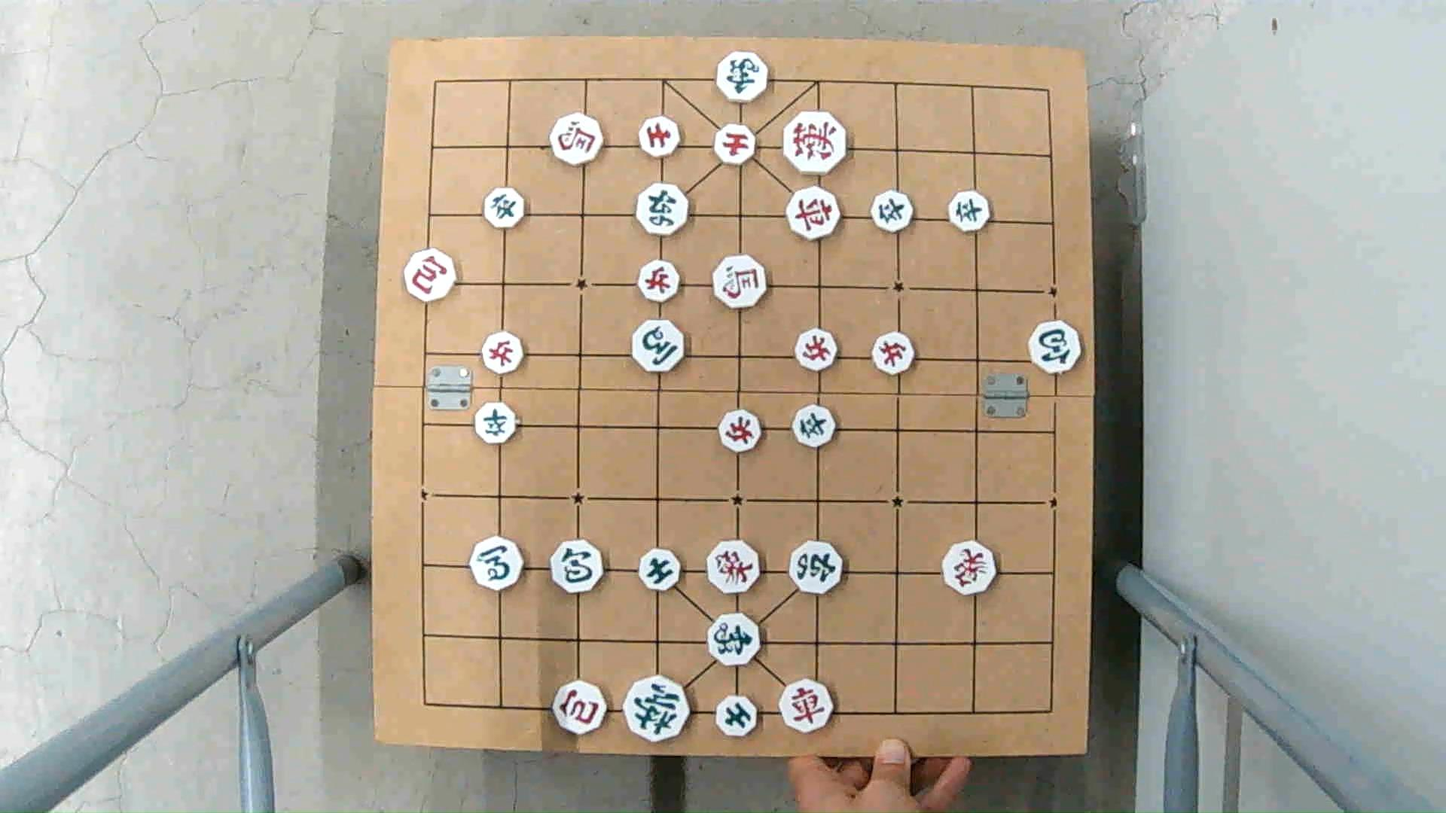cha_green: (789, 544, 845, 595), (635, 185, 691, 235)
cha_red: (778, 682, 837, 731), (786, 187, 844, 236)
jol_green: (792, 402, 837, 447), (474, 406, 520, 445), (948, 191, 993, 229), (483, 190, 527, 228), (871, 192, 914, 230)
jol_red: (792, 327, 841, 374), (870, 333, 917, 373), (717, 413, 762, 452), (636, 263, 682, 301), (481, 335, 527, 373)
ma_green: (469, 537, 527, 592), (630, 324, 686, 373)
ma_red: (712, 259, 766, 306), (548, 117, 603, 163)
po_green: (1028, 322, 1086, 372), (548, 541, 606, 589)
po_red: (553, 685, 611, 734), (401, 251, 458, 300)
sa_green: (636, 549, 684, 588), (715, 697, 763, 735)
sa_red: (636, 118, 681, 156), (710, 126, 756, 163)
sang_green: (705, 616, 763, 663), (718, 52, 767, 103)
sang_red: (708, 539, 758, 597), (939, 545, 996, 594)
wang_green: (622, 679, 694, 740)
wang_red: (782, 115, 849, 172)
